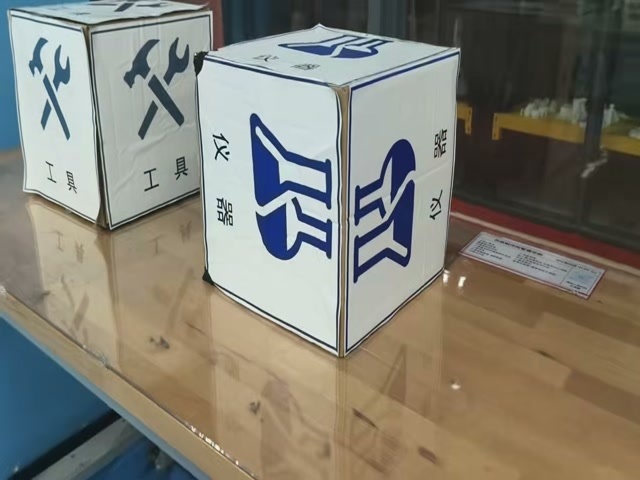Cube_ins: (201, 22, 463, 95)
Cube_tool: (5, 0, 213, 35)
